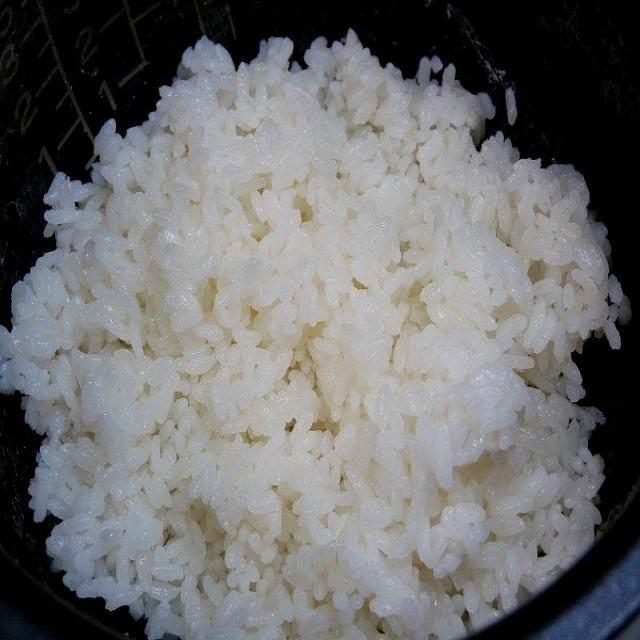rice: (4, 27, 625, 639)
